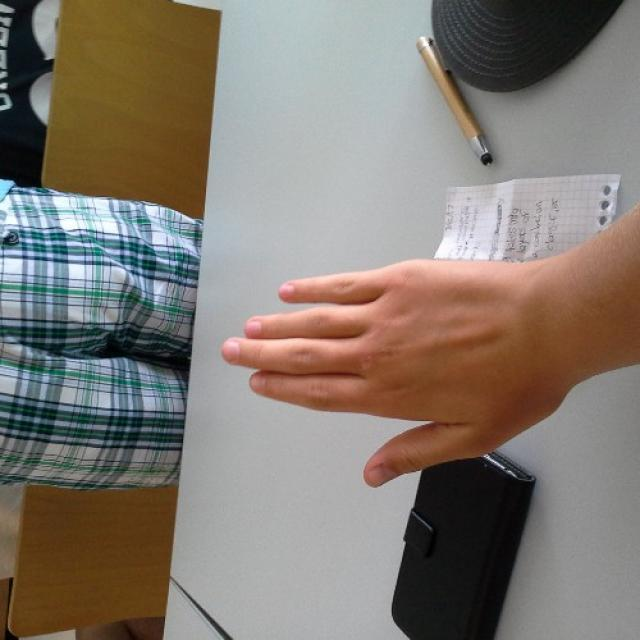paper: (221, 256, 571, 488)
